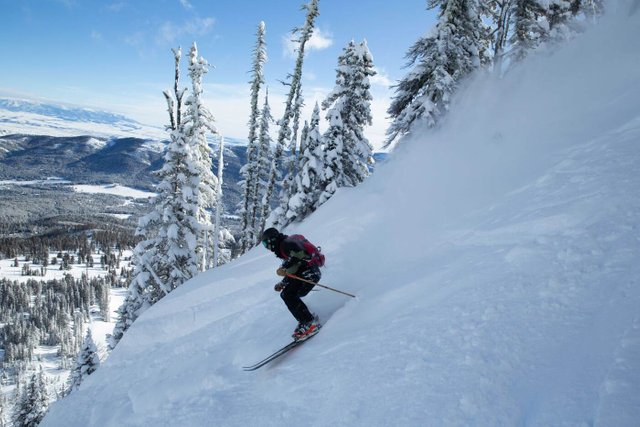skier: (230, 215, 366, 376)
